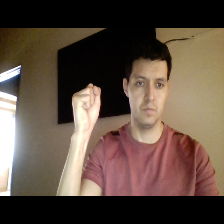9D: (69, 79, 107, 139)
